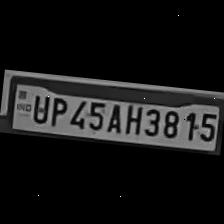1: (180, 106, 199, 140)
3: (140, 102, 161, 138)
4: (66, 94, 88, 128)
5: (82, 96, 106, 130), (194, 108, 218, 142)
8: (160, 105, 182, 139)
A: (103, 97, 124, 133)
H: (121, 99, 144, 135)
P: (46, 92, 68, 126)
U: (27, 90, 50, 124)
